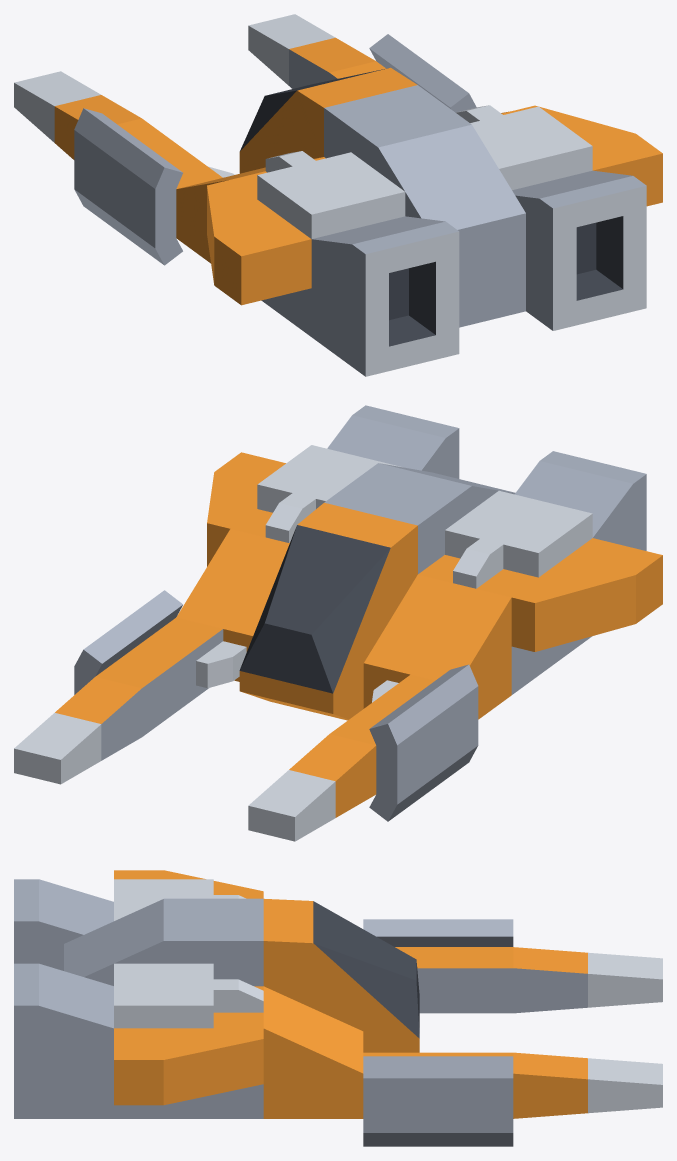
Rendered from k-craft-miner.glb.
3 renders of one model, top to bottom at view 1: azimuth 30°, elevation 25°; view 2: azimuth 150°, elevation 25°; view 3: azimuth 270°, elevation 25°, orthographic. The views are drawn at different scales.
Parts seen in each view (by area): view 1: craft_miner; view 2: craft_miner; view 3: craft_miner.
Part boxes in pixels (bbox=[...]): craft_miner: bbox=[14, 14, 662, 376]; craft_miner: bbox=[14, 405, 662, 841]; craft_miner: bbox=[14, 870, 662, 1146].
Size of the model in its own units: 1.8 by 0.7 by 2.6.
